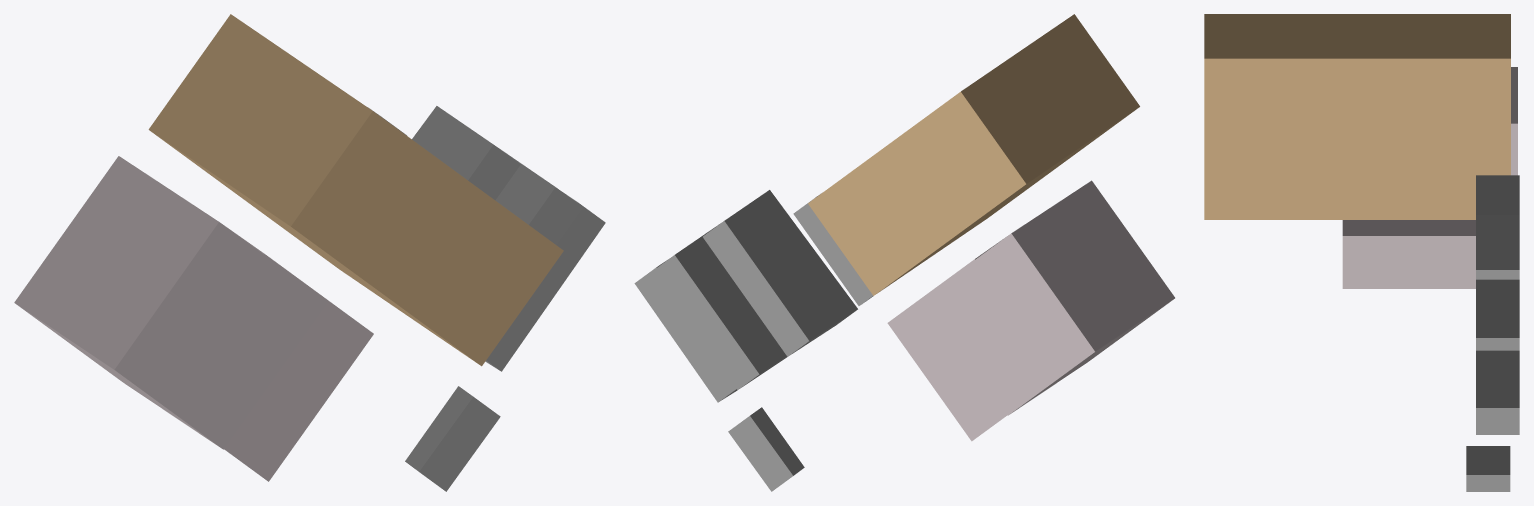
The picture shows the model from 3 angles, left to right: view 1: azimuth 30°, elevation 25°; view 2: azimuth 150°, elevation 25°; view 3: azimuth 270°, elevation 25°; orthographic projection. The views are drawn at different scales.
Visible parts, largest first — view 1: 0_2_3_2_2_3_1_1_0; view 2: 0_2_3_2_2_3_1_1_0; view 3: 0_2_3_2_2_3_1_1_0.
Part boxes in pixels (bbox=[...]): 0_2_3_2_2_3_1_1_0: bbox=[14, 14, 605, 491]; 0_2_3_2_2_3_1_1_0: bbox=[634, 14, 1174, 491]; 0_2_3_2_2_3_1_1_0: bbox=[1204, 14, 1519, 491].
Size of the model in its own units: 35.89 by 30.53 by 21.6.
